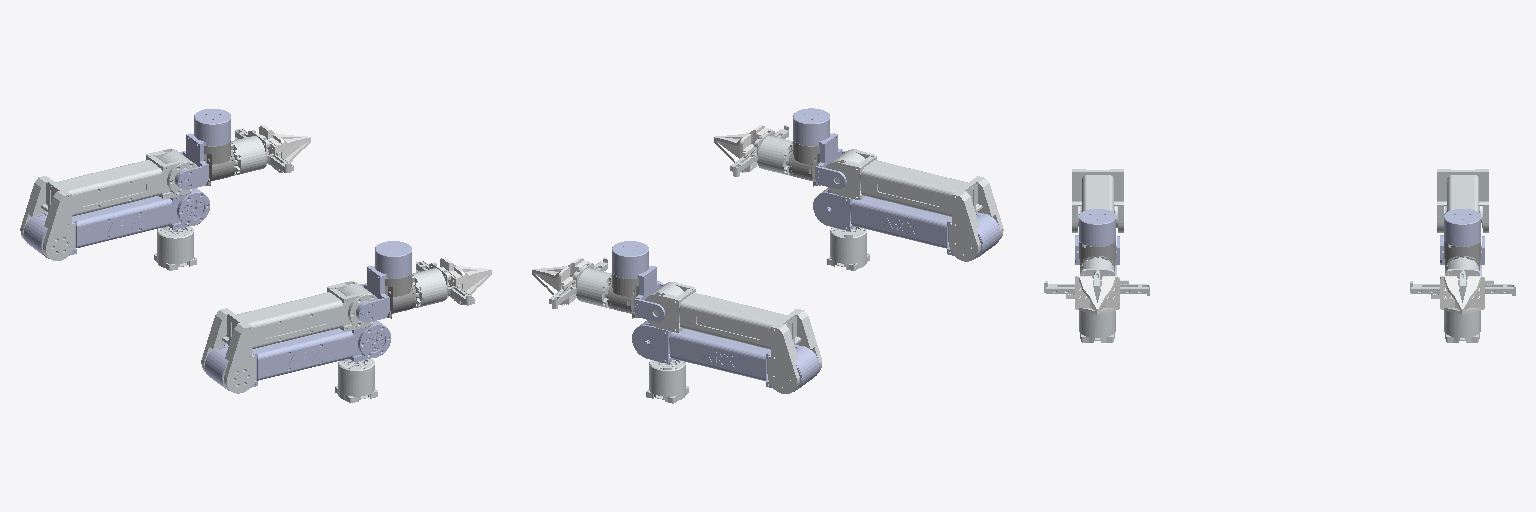
URDF robot description (bimanual_R5a):
<?xml version="1.0" encoding="utf-8"?>
<robot name="bimanual_R5a">

  <!-- A base link to connect the two arms -->
  <link name="world" />

  <!-- #################### -->
  <!-- RIGHT ARM            -->
  <!-- #################### -->

  <joint name="world_to_right_base" type="fixed">
    <parent link="world"/>
    <child link="right_base_link"/>
    <origin xyz="0 -0.3 0" rpy="0 0 0"/>
  </joint>

  <link name="right_base_link">
    <inertial>
      <origin xyz="-0.00013359 6.672E-05 0.031672" rpy="0 0 0" />
      <mass value="0.42272" />
      <inertia ixx="0.00019" ixy="0.00000" ixz="0.00000" iyy="0.00019" iyz="0.00000" izz="0.00020" />
    </inertial>
    <visual>
      <origin xyz="0 0 0" rpy="0 0 0" />
      <geometry>
        <mesh filename="meshes/base_link.STL" />
      </geometry>
      <material name="">
        <color rgba="0.89804 0.91765 0.92941 1" />
      </material>
    </visual>
    <collision>
      <origin xyz="0 0 0" rpy="0 0 0" />
      <geometry>
        <mesh filename="meshes/base_link.STL" />
      </geometry>
    </collision>
  </link>
  <link name="right_link1">
    <inertial>
      <origin xyz="0.0050395 -0.0077407 0.020897" rpy="0 0 0" />
      <mass value="0.096804" />
      <inertia ixx="0.00011" ixy="-0.00001" ixz="0.00001" iyy="0.00005" iyz="-0.00001" izz="0.00010" />
    </inertial>
    <visual>
      <origin xyz="0 0 0" rpy="0 0 0" />
      <geometry>
        <mesh filename="meshes/link1.STL" />
      </geometry>
      <material name="">
        <color rgba="0.56471 0.56471 0.56471 1" />
      </material>
    </visual>
    <collision>
      <origin xyz="0 0 0" rpy="0 0 0" />
      <geometry>
        <mesh filename="meshes/link1.STL" />
      </geometry>
    </collision>
  </link>
  <joint name="right_joint1" type="revolute">
    <origin xyz="0 0 0.0565" rpy="0 0 0" />
    <parent link="right_base_link" />
    <child link="right_link1" />
    <axis xyz="0 0 1" />
    <limit lower="-10" upper="10" effort="100" velocity="1000" />
  </joint>
  <link name="right_link2">
    <inertial>
      <origin xyz="-0.12992 -0.0011822 -2.6366E-05" rpy="0 0 0" />
      <mass value="1.1988" />
      <inertia ixx="0.00065" ixy="0.00008" ixz="0.00000" iyy="0.01647" iyz="0.00000" izz="0.01646" />
    </inertial>
    <visual>
      <origin xyz="0 0 0" rpy="0 0 0" />
      <geometry>
        <mesh filename="meshes/link2.STL" />
      </geometry>
      <material name="">
        <color rgba="0.79216 0.81961 0.93333 1" />
      </material>
    </visual>
    <collision>
      <origin xyz="0 0 0" rpy="0 0 0" />
      <geometry>
        <mesh filename="meshes/link2.STL" />
      </geometry>
    </collision>
  </link>
  <joint name="right_joint2" type="revolute">
    <origin xyz="0.02 0 0.047" rpy="0 0 0" />
    <parent link="right_link1" />
    <child link="right_link2" />
    <axis xyz="0 1 0" />
    <limit lower="-10" upper="10" effort="100" velocity="1000" />
  </joint>
  <link name="right_link3">
    <inertial>
      <origin xyz="0.16181 0.0011723 -0.05455" rpy="0 0 0" />
      <mass value="0.84082" />
      <inertia ixx="0.00082" ixy="0.00008" ixz="-0.00074" iyy="0.00849" iyz="0.00001" izz="0.00834" />
    </inertial>
    <visual>
      <origin xyz="0 0 0" rpy="0 0 0" />
      <geometry>
        <mesh filename="meshes/link3.STL" />
      </geometry>
      <material name="">
        <color rgba="0.89804 0.91765 0.92941 1" />
      </material>
    </visual>
    <collision>
      <origin xyz="0 0 0" rpy="0 0 0" />
      <geometry>
        <mesh filename="meshes/link3.STL" />
      </geometry>
    </collision>
  </link>
  <joint name="right_joint3" type="revolute">
    <origin xyz="-0.264 0 0" rpy="-3.1416 0 0" />
    <parent link="right_link2" />
    <child link="right_link3" />
    <axis xyz="0 1 0" />
    <limit lower="-10" upper="10" effort="100" velocity="1000" />
  </joint>
  <link name="right_link4">
    <inertial>
      <origin xyz="0.041751 0.0054236 -0.03337" rpy="0 0 0" />
      <mass value="0.12432" />
      <inertia ixx="0.00022" ixy="-0.00002" ixz="-0.00009" iyy="0.00025" iyz="0.00002" izz="0.00017" />
    </inertial>
    <visual>
      <origin xyz="0 0 0" rpy="0 0 0" />
      <geometry>
        <mesh filename="meshes/link4.STL" />
      </geometry>
      <material name="">
        <color rgba="0.79216 0.81961 0.93333 1" />
      </material>
    </visual>
    <collision>
      <origin xyz="0 0 0" rpy="0 0 0" />
      <geometry>
        <mesh filename="meshes/link4.STL" />
      </geometry>
    </collision>
  </link>
  <joint name="right_joint4" type="revolute">
    <origin xyz="0.245 -5E-05 -0.06" rpy="0 0 0" />
    <parent link="right_link3" />
    <child link="right_link4" />
    <axis xyz="0 1 0" />
    <limit lower="-10" upper="10" effort="100" velocity="1000" />
  </joint>
  <link name="right_link5">
    <inertial>
      <origin xyz="-8.3435E-05 -1.5428E-05 0.052216" rpy="0 0 0" />
      <mass value="0.63601" />
      <inertia ixx="0.00084" ixy="0.00000" ixz="0.00007" iyy="0.00082" iyz="0.00000" izz="0.00026" />
    </inertial>
    <visual>
      <origin xyz="0 0 0" rpy="0 0 0" />
      <geometry>
        <mesh filename="meshes/link5.STL" />
      </geometry>
      <material name="">
        <color rgba="0.69804 0.69804 0.69804 1" />
      </material>
    </visual>
    <collision>
      <origin xyz="0 0 0" rpy="0 0 0" />
      <geometry>
        <mesh filename="meshes/link5.STL" />
      </geometry>
    </collision>
  </link>
  <joint name="right_joint5" type="revolute">
    <origin xyz="0.073914 5E-05 -0.083391" rpy="0 0 0" />
    <parent link="right_link4" />
    <child link="right_link5" />
    <axis xyz="0 0 1" />
    <limit lower="-10" upper="10" effort="100" velocity="1000" />
  </joint>
  <link name="right_link6">
    <inertial>
      <origin xyz="0.041697 2.4368E-05 0.00014464" rpy="0 0 0" />
      <mass value="0.44089" />
      <inertia ixx="0.00038" ixy="0.00000" ixz="0.00000" iyy="0.00028" iyz="0.00000" izz="0.00050" />
    </inertial>
    <visual>
      <origin xyz="0 0 0" rpy="0 0 0" />
      <geometry>
        <mesh filename="meshes/link6.STL" />
      </geometry>
      <material name="">
        <color rgba="0.89804 0.91765 0.92941 1" />
      </material>
    </visual>
    <collision>
      <origin xyz="0 0 0" rpy="0 0 0" />
      <geometry>
        <mesh filename="meshes/link6.STL" />
      </geometry>
    </collision>
  </link>
  <joint name="right_joint6" type="revolute">
    <origin xyz="0.025286 0 0.083391" rpy="3.1416 0 0" />
    <parent link="right_link5" />
    <child link="right_link6" />
    <axis xyz="1 0 0" />
    <limit lower="-10" upper="10" effort="100" velocity="1000" />
  </joint>
  <link name="right_link7">
    <inertial>
      <origin xyz="-0.00035522 -0.007827 -0.0029883" rpy="0 0 0" />
      <mass value="0.064798" />
      <inertia ixx="0.00002" ixy="0.00000" ixz="0.00000" iyy="0.00003" iyz="0.00000" izz="0.00003" />
    </inertial>
    <visual>
      <origin xyz="0 0 0" rpy="0 0 0" />
      <geometry>
        <mesh filename="meshes/link7.STL" />
      </geometry>
      <material name="">
        <color rgba="1 1 1 1" />
      </material>
    </visual>
    <collision>
      <origin xyz="0 0 0" rpy="0 0 0" />
      <geometry>
        <mesh filename="meshes/link7.STL" />
      </geometry>
    </collision>
  </link>
  <joint name="right_joint7" type="prismatic">
    <origin xyz="0.08657 0.024896 -0.0002436" rpy="0 0 0" />
    <parent link="right_link6" />
    <child link="right_link7" />
    <axis xyz="0 1 0" />
    <limit lower="0" upper="0.044" effort="100" velocity="1000" />
  </joint>
  <link name="right_link8">
    <inertial>
      <origin xyz="-0.000355223470270755 0.00782768751820277 0.00242005642879778" rpy="0 0 0" />
      <mass value="0.0647981725781684" />
      <inertia ixx="0.00002" ixy="0.00000" ixz="0.00000" iyy="0.00003" iyz="0.00000" izz="0.00003" />
    </inertial>
    <visual>
      <origin xyz="0 0 0" rpy="0 0 0" />
      <geometry>
        <mesh filename="meshes/link8.STL" />
      </geometry>
      <material name="">
        <color rgba="1 1 1 1" />
      </material>
    </visual>
    <collision>
      <origin xyz="0 0 0" rpy="0 0 0" />
      <geometry>
        <mesh filename="meshes/link8.STL" />
      </geometry>
    </collision>
  </link>
  <joint name="right_joint8" type="prismatic">
    <origin xyz="0.08657 -0.0249 -0.00024366" rpy="0 0 0" />
    <parent link="right_link6" />
    <child link="right_link8" />
    <axis xyz="0 -1 0" />
    <limit lower="0" upper="0.044" effort="100" velocity="1000" />
  </joint>

  <!-- #################### -->
  <!-- LEFT ARM             -->
  <!-- #################### -->

  <joint name="world_to_left_base" type="fixed">
    <parent link="world"/>
    <child link="left_base_link"/>
    <origin xyz="0 0.3 0" rpy="0 0 0"/>
  </joint>

  <link name="left_base_link">
    <inertial>
      <origin xyz="-0.00013359 6.672E-05 0.031672" rpy="0 0 0" />
      <mass value="0.42272" />
      <inertia ixx="0.00019" ixy="0.00000" ixz="0.00000" iyy="0.00019" iyz="0.00000" izz="0.00020" />
    </inertial>
    <visual>
      <origin xyz="0 0 0" rpy="0 0 0" />
      <geometry>
        <mesh filename="meshes/base_link.STL" />
      </geometry>
      <material name="">
        <color rgba="0.89804 0.91765 0.92941 1" />
      </material>
    </visual>
    <collision>
      <origin xyz="0 0 0" rpy="0 0 0" />
      <geometry>
        <mesh filename="meshes/base_link.STL" />
      </geometry>
    </collision>
  </link>
  <link name="left_link1">
    <inertial>
      <origin xyz="0.0050395 -0.0077407 0.020897" rpy="0 0 0" />
      <mass value="0.096804" />
      <inertia ixx="0.00011" ixy="-0.00001" ixz="0.00001" iyy="0.00005" iyz="-0.00001" izz="0.00010" />
    </inertial>
    <visual>
      <origin xyz="0 0 0" rpy="0 0 0" />
      <geometry>
        <mesh filename="meshes/link1.STL" />
      </geometry>
      <material name="">
        <color rgba="0.56471 0.56471 0.56471 1" />
      </material>
    </visual>
    <collision>
      <origin xyz="0 0 0" rpy="0 0 0" />
      <geometry>
        <mesh filename="meshes/link1.STL" />
      </geometry>
    </collision>
  </link>
  <joint name="left_joint1" type="revolute">
    <origin xyz="0 0 0.0565" rpy="0 0 0" />
    <parent link="left_base_link" />
    <child link="left_link1" />
    <axis xyz="0 0 1" />
    <limit lower="-10" upper="10" effort="100" velocity="1000" />
  </joint>
  <link name="left_link2">
    <inertial>
      <origin xyz="-0.12992 -0.0011822 -2.6366E-05" rpy="0 0 0" />
      <mass value="1.1988" />
      <inertia ixx="0.00065" ixy="0.00008" ixz="0.00000" iyy="0.01647" iyz="0.00000" izz="0.01646" />
    </inertial>
    <visual>
      <origin xyz="0 0 0" rpy="0 0 0" />
      <geometry>
        <mesh filename="meshes/link2.STL" />
      </geometry>
      <material name="">
        <color rgba="0.79216 0.81961 0.93333 1" />
      </material>
    </visual>
    <collision>
      <origin xyz="0 0 0" rpy="0 0 0" />
      <geometry>
        <mesh filename="meshes/link2.STL" />
      </geometry>
    </collision>
  </link>
  <joint name="left_joint2" type="revolute">
    <origin xyz="0.02 0 0.047" rpy="0 0 0" />
    <parent link="left_link1" />
    <child link="left_link2" />
    <axis xyz="0 1 0" />
    <limit lower="-10" upper="10" effort="100" velocity="1000" />
  </joint>
  <link name="left_link3">
    <inertial>
      <origin xyz="0.16181 0.0011723 -0.05455" rpy="0 0 0" />
      <mass value="0.84082" />
      <inertia ixx="0.00082" ixy="0.00008" ixz="-0.00074" iyy="0.00849" iyz="0.00001" izz="0.00834" />
    </inertial>
    <visual>
      <origin xyz="0 0 0" rpy="0 0 0" />
      <geometry>
        <mesh filename="meshes/link3.STL" />
      </geometry>
      <material name="">
        <color rgba="0.89804 0.91765 0.92941 1" />
      </material>
    </visual>
    <collision>
      <origin xyz="0 0 0" rpy="0 0 0" />
      <geometry>
        <mesh filename="meshes/link3.STL" />
      </geometry>
    </collision>
  </link>
  <joint name="left_joint3" type="revolute">
    <origin xyz="-0.264 0 0" rpy="-3.1416 0 0" />
    <parent link="left_link2" />
    <child link="left_link3" />
    <axis xyz="0 1 0" />
    <limit lower="-10" upper="10" effort="100" velocity="1000" />
  </joint>
  <link name="left_link4">
    <inertial>
      <origin xyz="0.041751 0.0054236 -0.03337" rpy="0 0 0" />
      <mass value="0.12432" />
      <inertia ixx="0.00022" ixy="-0.00002" ixz="-0.00009" iyy="0.00025" iyz="0.00002" izz="0.00017" />
    </inertial>
    <visual>
      <origin xyz="0 0 0" rpy="0 0 0" />
      <geometry>
        <mesh filename="meshes/link4.STL" />
      </geometry>
      <material name="">
        <color rgba="0.79216 0.81961 0.93333 1" />
      </material>
    </visual>
    <collision>
      <origin xyz="0 0 0" rpy="0 0 0" />
      <geometry>
        <mesh filename="meshes/link4.STL" />
      </geometry>
    </collision>
  </link>
  <joint name="left_joint4" type="revolute">
    <origin xyz="0.245 -5E-05 -0.06" rpy="0 0 0" />
    <parent link="left_link3" />
    <child link="left_link4" />
    <axis xyz="0 1 0" />
    <limit lower="-10" upper="10" effort="100" velocity="1000" />
  </joint>
  <link name="left_link5">
    <inertial>
      <origin xyz="-8.3435E-05 -1.5428E-05 0.052216" rpy="0 0 0" />
      <mass value="0.63601" />
      <inertia ixx="0.00084" ixy="0.00000" ixz="0.00007" iyy="0.00082" iyz="0.00000" izz="0.00026" />
    </inertial>
    <visual>
      <origin xyz="0 0 0" rpy="0 0 0" />
      <geometry>
        <mesh filename="meshes/link5.STL" />
      </geometry>
      <material name="">
        <color rgba="0.69804 0.69804 0.69804 1" />
      </material>
    </visual>
    <collision>
      <origin xyz="0 0 0" rpy="0 0 0" />
      <geometry>
        <mesh filename="meshes/link5.STL" />
      </geometry>
    </collision>
  </link>
  <joint name="left_joint5" type="revolute">
    <origin xyz="0.073914 5E-05 -0.083391" rpy="0 0 0" />
    <parent link="left_link4" />
    <child link="left_link5" />
    <axis xyz="0 0 1" />
    <limit lower="-10" upper="10" effort="100" velocity="1000" />
  </joint>
  <link name="left_link6">
    <inertial>
      <origin xyz="0.041697 2.4368E-05 0.00014464" rpy="0 0 0" />
      <mass value="0.44089" />
      <inertia ixx="0.00038" ixy="0.00000" ixz="0.00000" iyy="0.00028" iyz="0.00000" izz="0.00050" />
    </inertial>
    <visual>
      <origin xyz="0 0 0" rpy="0 0 0" />
      <geometry>
        <mesh filename="meshes/link6.STL" />
      </geometry>
      <material name="">
        <color rgba="0.89804 0.91765 0.92941 1" />
      </material>
    </visual>
    <collision>
      <origin xyz="0 0 0" rpy="0 0 0" />
      <geometry>
        <mesh filename="meshes/link6.STL" />
      </geometry>
    </collision>
  </link>
  <joint name="left_joint6" type="revolute">
    <origin xyz="0.025286 0 0.083391" rpy="3.1416 0 0" />
    <parent link="left_link5" />
    <child link="left_link6" />
    <axis xyz="1 0 0" />
    <limit lower="-10" upper="10" effort="100" velocity="1000" />
  </joint>
  <link name="left_link7">
    <inertial>
      <origin xyz="-0.00035522 -0.007827 -0.0029883" rpy="0 0 0" />
      <mass value="0.064798" />
      <inertia ixx="0.00002" ixy="0.00000" ixz="0.00000" iyy="0.00003" iyz="0.00000" izz="0.00003" />
    </inertial>
    <visual>
      <origin xyz="0 0 0" rpy="0 0 0" />
      <geometry>
        <mesh filename="meshes/link7.STL" />
      </geometry>
      <material name="">
        <color rgba="1 1 1 1" />
      </material>
    </visual>
    <collision>
      <origin xyz="0 0 0" rpy="0 0 0" />
      <geometry>
        <mesh filename="meshes/link7.STL" />
      </geometry>
    </collision>
  </link>
  <joint name="left_joint7" type="prismatic">
    <origin xyz="0.08657 0.024896 -0.0002436" rpy="0 0 0" />
    <parent link="left_link6" />
    <child link="left_link7" />
    <axis xyz="0 1 0" />
    <limit lower="0" upper="0.044" effort="100" velocity="1000" />
  </joint>
  <link name="left_link8">
    <inertial>
      <origin xyz="-0.000355223470270755 0.00782768751820277 0.00242005642879778" rpy="0 0 0" />
      <mass value="0.0647981725781684" />
      <inertia ixx="0.00002" ixy="0.00000" ixz="0.00000" iyy="0.00003" iyz="0.00000" izz="0.00003" />
    </inertial>
    <visual>
      <origin xyz="0 0 0" rpy="0 0 0" />
      <geometry>
        <mesh filename="meshes/link8.STL" />
      </geometry>
      <material name="">
        <color rgba="1 1 1 1" />
      </material>
    </visual>
    <collision>
      <origin xyz="0 0 0" rpy="0 0 0" />
      <geometry>
        <mesh filename="meshes/link8.STL" />
      </geometry>
    </collision>
  </link>
  <joint name="left_joint8" type="prismatic">
    <origin xyz="0.08657 -0.0249 -0.00024366" rpy="0 0 0" />
    <parent link="left_link6" />
    <child link="left_link8" />
    <axis xyz="0 -1 0" />
    <limit lower="0" upper="0.044" effort="100" velocity="1000" />
  </joint>

</robot>

--- Render facts (derived) ---
3 views of the same robot in one strip: view 1: azimuth 30°, elevation 25°; view 2: azimuth 150°, elevation 25°; view 3: azimuth 270°, elevation 25° (orthographic).
Model bimanual_R5a with 19 links and 18 joints (12 revolute, 4 prismatic, 2 fixed), rooted at world, posed all joints at 0.
Visible links, largest first — view 1: left_link3, right_link3, right_link2, left_link2, right_link4, left_link4, left_link6, right_link6, left_base_link, right_base_link, left_link5, right_link5 (+2 smaller); view 2: right_link3, left_link3, right_link2, left_link2, left_link4, right_link4, right_link6, left_link6, right_base_link, left_base_link, right_link5, left_link5 (+2 smaller); view 3: right_link3, left_link3, right_link4, left_link4, right_link6, left_link6, right_base_link, left_base_link, left_link8, right_link8, right_link7, left_link7 (+2 smaller).
Boxes of the visible links, x1,y1,x2,y2 form: left_link3: [20, 149, 197, 260]; right_link3: [201, 281, 377, 393]; right_link2: [205, 321, 390, 390]; left_link2: [24, 188, 209, 258]; right_link4: [356, 241, 411, 322]; left_link4: [175, 109, 230, 189]; left_link6: [231, 129, 293, 175]; right_link6: [412, 261, 474, 307]; left_base_link: [154, 226, 196, 270]; right_base_link: [335, 359, 377, 402]; left_link5: [204, 141, 235, 185]; right_link5: [385, 273, 416, 318]; right_link3: [826, 149, 1003, 261]; left_link3: [645, 282, 821, 393]; right_link2: [813, 188, 1000, 258]; left_link2: [632, 321, 819, 391]; left_link4: [612, 241, 664, 321]; right_link4: [793, 108, 846, 188]; right_link6: [730, 125, 792, 176]; left_link6: [549, 257, 611, 308]; right_base_link: [827, 226, 869, 270]; left_base_link: [646, 359, 688, 403]; right_link5: [788, 140, 819, 186]; left_link5: [607, 273, 638, 318]; right_link3: [1072, 169, 1123, 232]; left_link3: [1437, 169, 1488, 232]; right_link4: [1075, 209, 1119, 264]; left_link4: [1440, 209, 1484, 264]; right_link6: [1044, 257, 1149, 302]; left_link6: [1410, 257, 1515, 302]; right_base_link: [1079, 311, 1115, 342]; left_base_link: [1444, 311, 1480, 342]; left_link8: [1440, 276, 1493, 314]; right_link8: [1075, 276, 1128, 314]; right_link7: [1066, 276, 1119, 314]; left_link7: [1431, 276, 1484, 314].
Size in the robot's own frame: 0.5317 by 0.774 by 0.25 metres.
Meshes: 9 distinct files referenced, 16 mesh visuals loaded (8 binary STL); not drawn: 2 (reference not matched to a file when rendering).